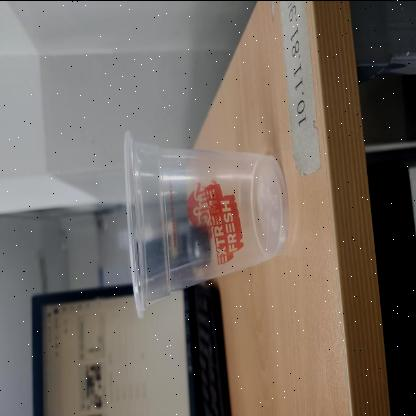Others: (122, 130, 290, 318)
